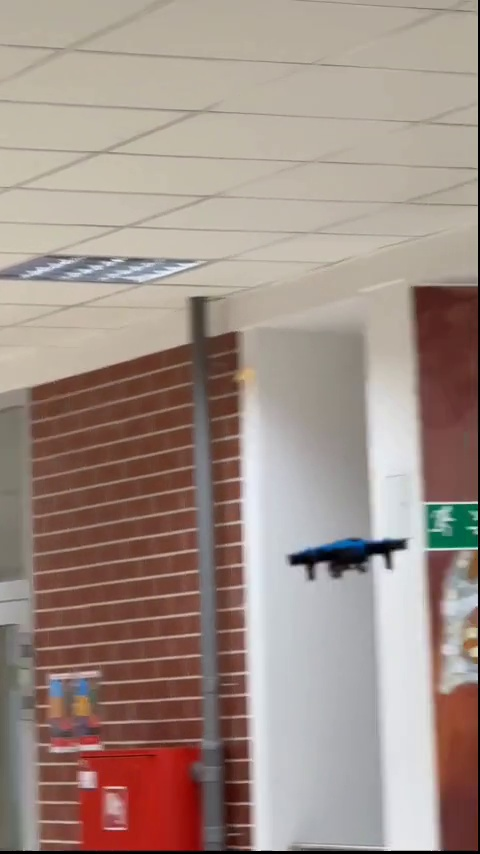drone: (290, 537, 410, 581)
